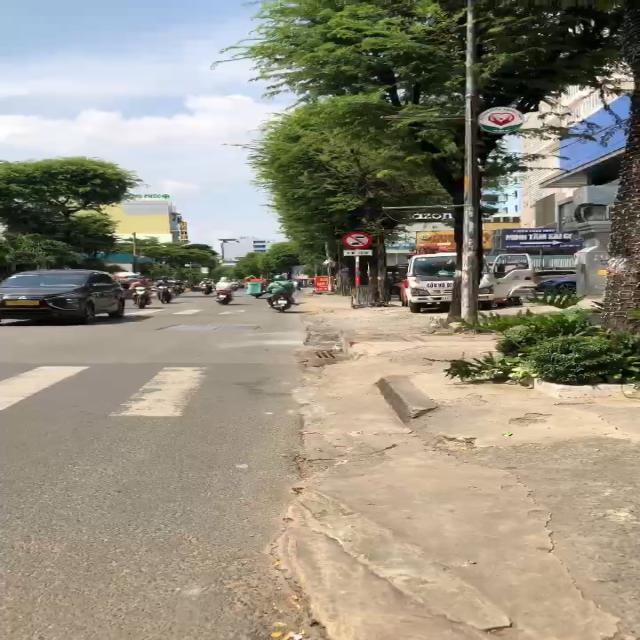Bien bao cam xe oto khach va xe oto tai: (339, 230, 376, 250)
